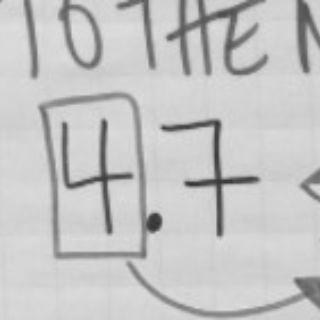.: (146, 210, 165, 238)
0: (56, 1, 106, 72)
1: (20, 1, 43, 81)
4: (60, 116, 134, 238)
7: (159, 115, 262, 243)
